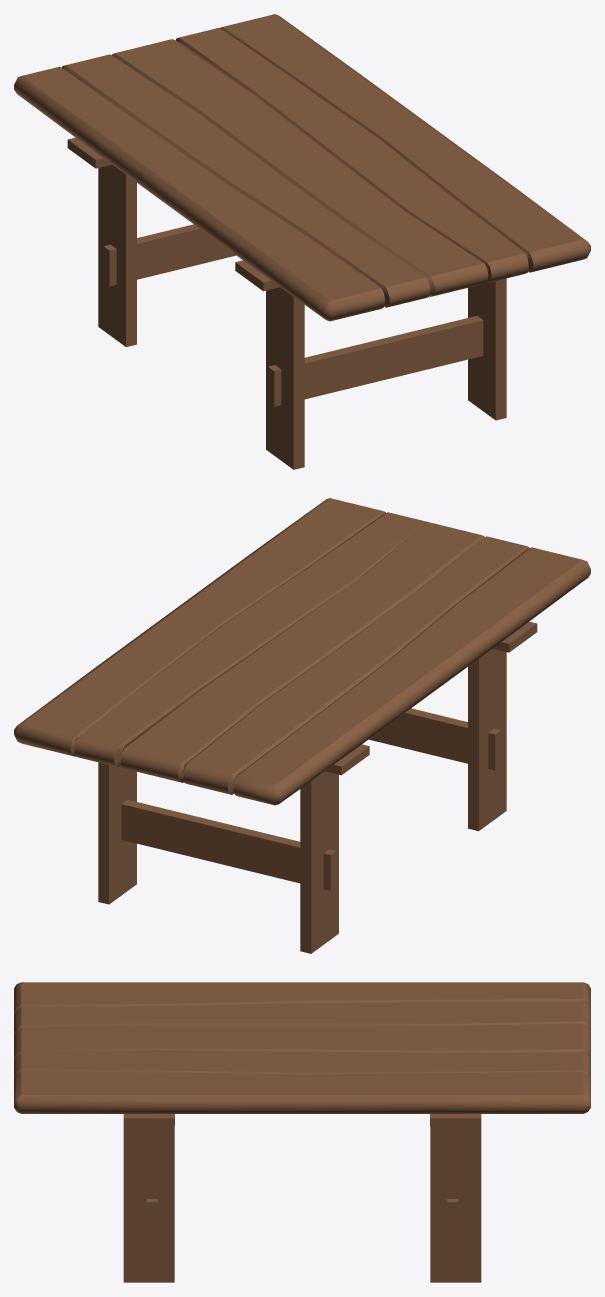
Rendered from SE_099_wooden_table.glb.
3 renders of one model, top to bottom at view 1: azimuth 30°, elevation 25°; view 2: azimuth 150°, elevation 25°; view 3: azimuth 270°, elevation 25°, orthographic. The views are drawn at different scales.
Parts seen in each view (by area): view 1: table, legs, support_bottom, support_top; view 2: table, legs, support_bottom, support_top; view 3: table, legs, support_top, support_bottom.
Boxes of the visible parts, box(x1,y1,x2,y2) form: table: box(14, 14, 590, 321); legs: box(98, 164, 506, 469); support_bottom: box(103, 224, 483, 406); support_top: box(67, 137, 279, 291); table: box(14, 498, 590, 805); legs: box(98, 648, 506, 953); support_bottom: box(121, 708, 501, 890); support_top: box(325, 621, 537, 775); table: box(14, 982, 590, 1113); legs: box(123, 1126, 481, 1282); support_top: box(123, 1114, 481, 1126); support_bottom: box(146, 1199, 458, 1234).
Size of the model in its own units: 1.5 by 1.12 by 2.99.
